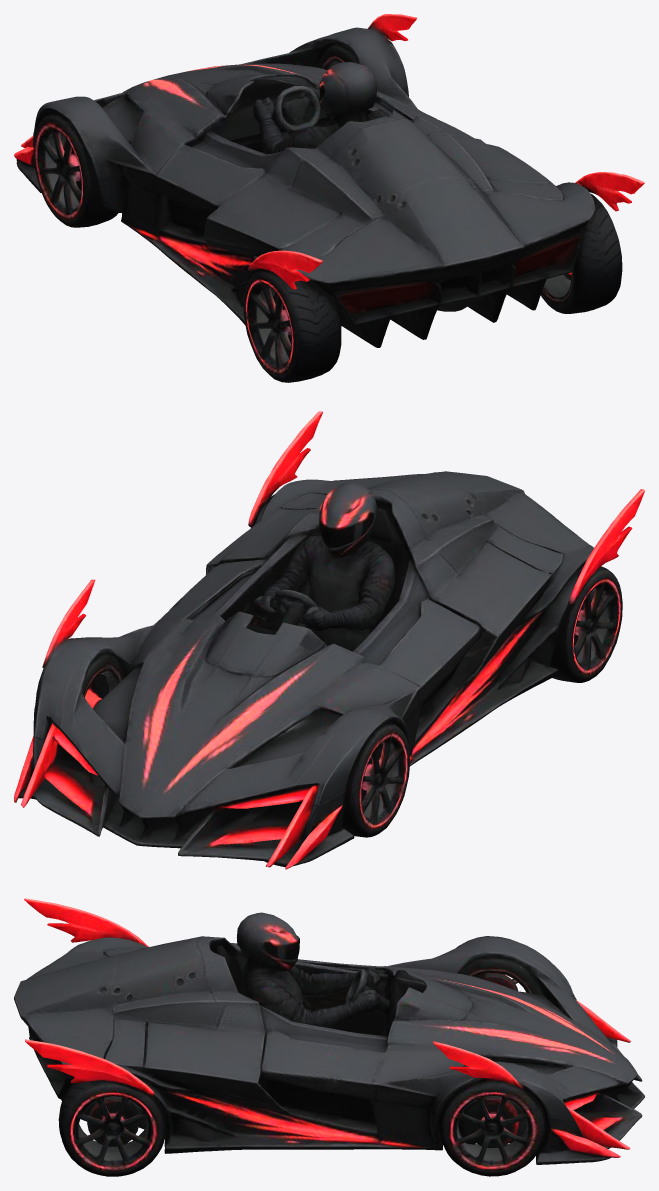
File: signal-dark.glb
3 views of the same model, one above another, from view 1: azimuth 30°, elevation 25°; view 2: azimuth 150°, elevation 25°; view 3: azimuth 270°, elevation 25° (orthographic). The views are drawn at different scales.
Visible parts, largest first — view 1: chassis; view 2: chassis; view 3: chassis.
Part boxes in pixels (x1,y1,x2,y2): chassis: (14,14,644,382); chassis: (14,411,644,869); chassis: (14,898,644,1176).
Size of the model in its own units: 2.42 by 1.53 by 4.5.
1 material, 1 textured.
